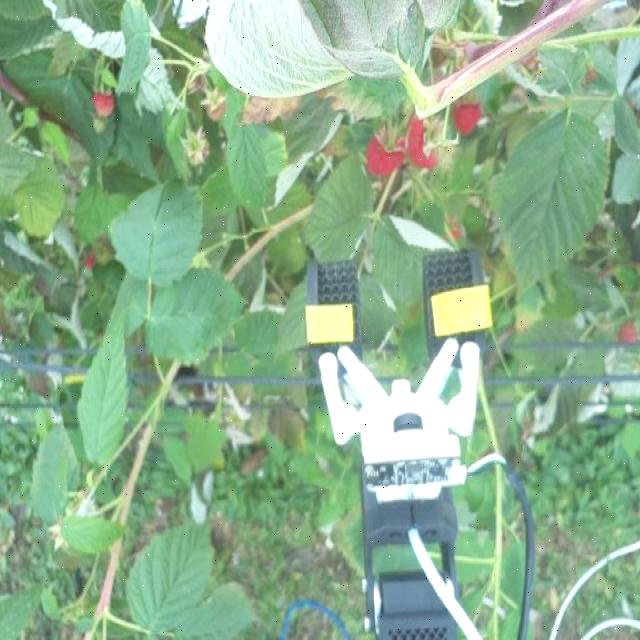Riped berries: (406, 114, 445, 168), (368, 124, 402, 178), (449, 97, 483, 139), (90, 89, 118, 122)
